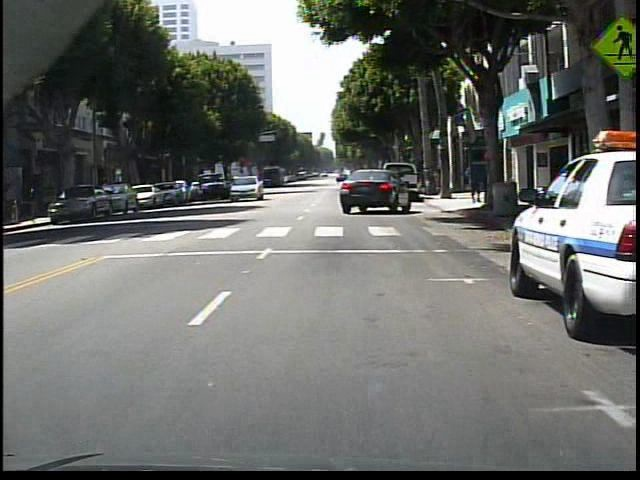person: (464, 160, 486, 209)
